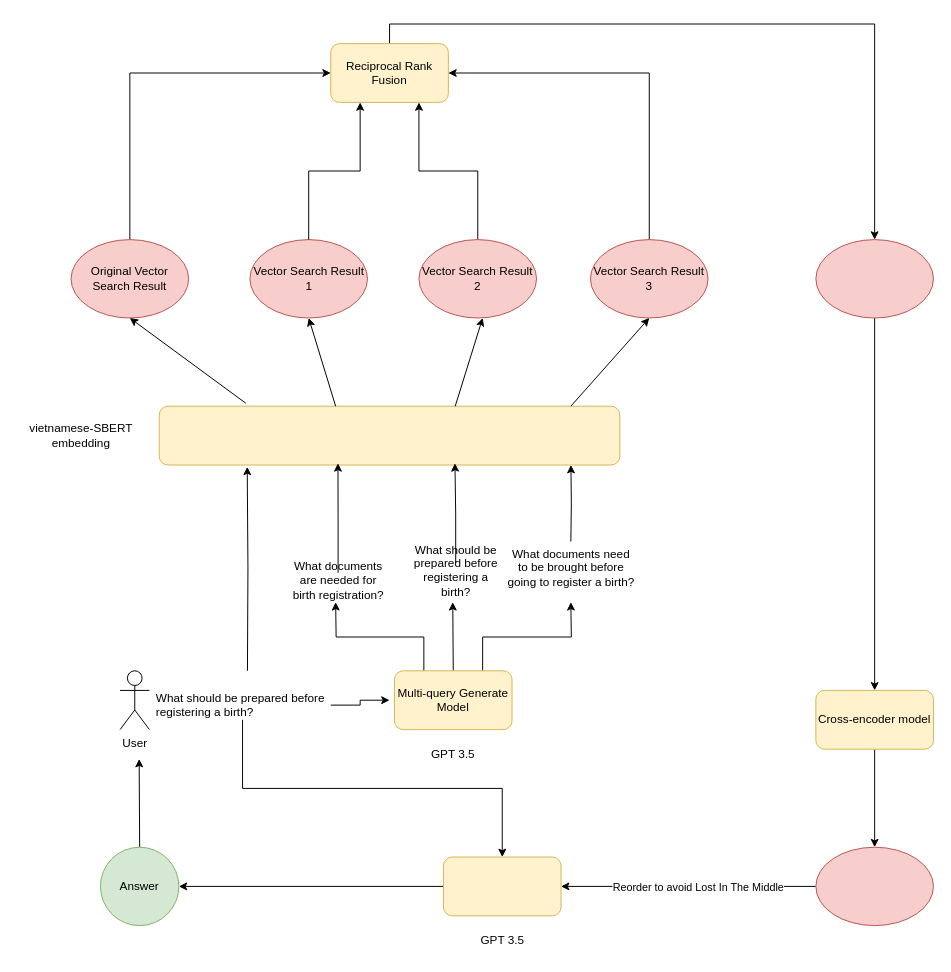
This 951x972 diagram has some shape labels left out. Each missing label, with the box of its shape:
Generative LLM: (442, 856, 561, 916)
Reciprocal Rank Result: (815, 239, 933, 318)
Relevant Re-ranked Result: (815, 846, 933, 926)
Vector Search (Data Chunk): (158, 405, 620, 465)
